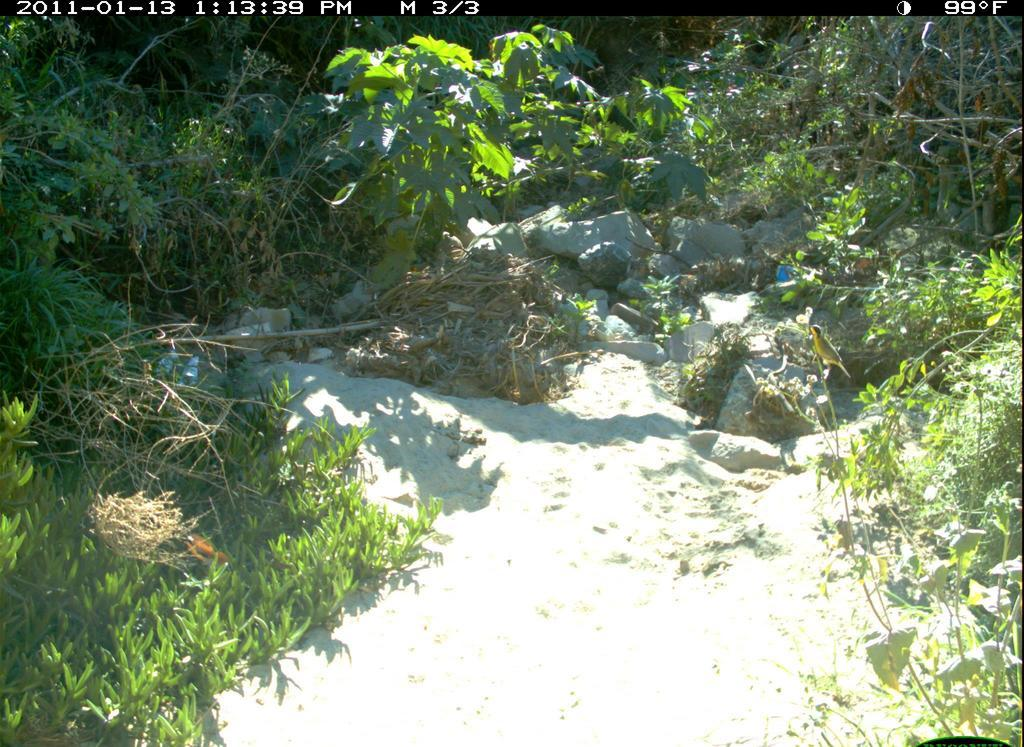bird: (809, 321, 858, 385)
